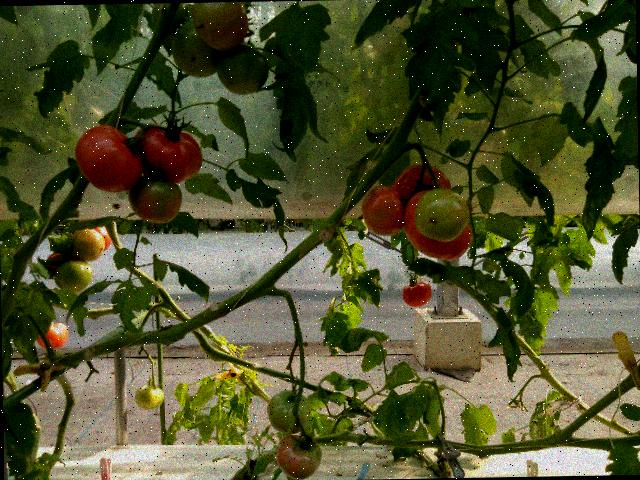b_fully_ripened: (403, 189, 473, 262), (74, 124, 143, 193), (133, 122, 203, 183), (37, 322, 70, 349), (402, 280, 432, 307)
b_green: (414, 187, 470, 242), (171, 19, 223, 78), (215, 42, 269, 95), (266, 390, 311, 434), (53, 259, 93, 293), (69, 228, 106, 261), (152, 2, 190, 34), (134, 385, 164, 410)
b_half_ripened: (193, 1, 249, 52), (127, 175, 183, 224), (392, 164, 452, 208), (361, 185, 406, 237), (276, 433, 323, 480)
